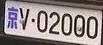V: (22, 9, 30, 30)
